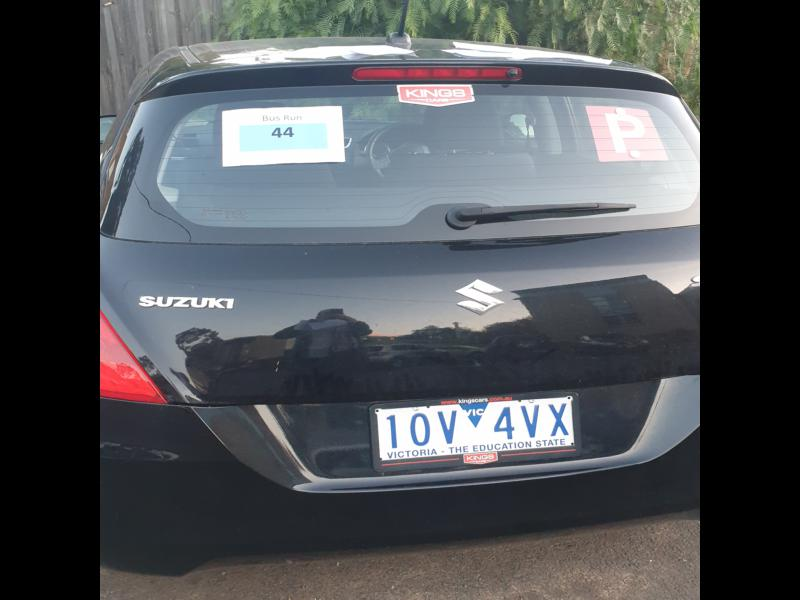BusRun: (239, 122, 327, 149)
PlateNo: (372, 397, 580, 464)
